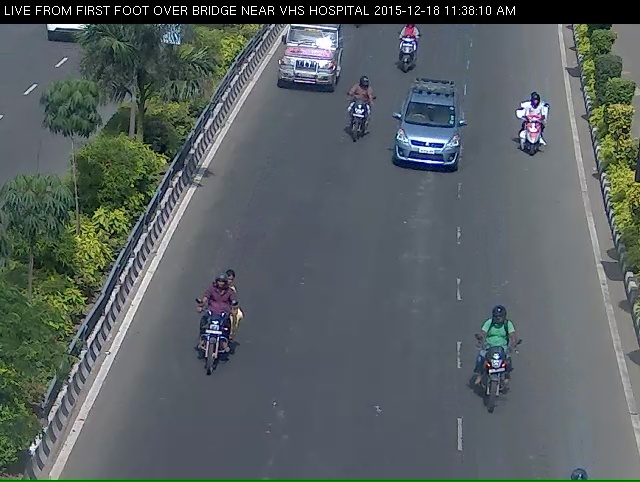Car: (390, 88, 474, 195), (272, 23, 341, 103)
Person: (172, 302, 253, 417), (472, 333, 530, 451), (336, 94, 379, 164), (520, 101, 554, 172), (387, 29, 424, 89)
